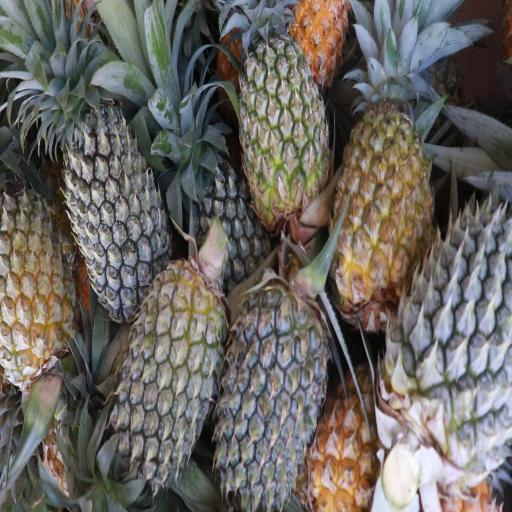------------------------------: (233, 20, 331, 222)
Pineapple - v8 v1: (336, 81, 431, 307), (0, 190, 78, 390), (314, 356, 400, 512)
